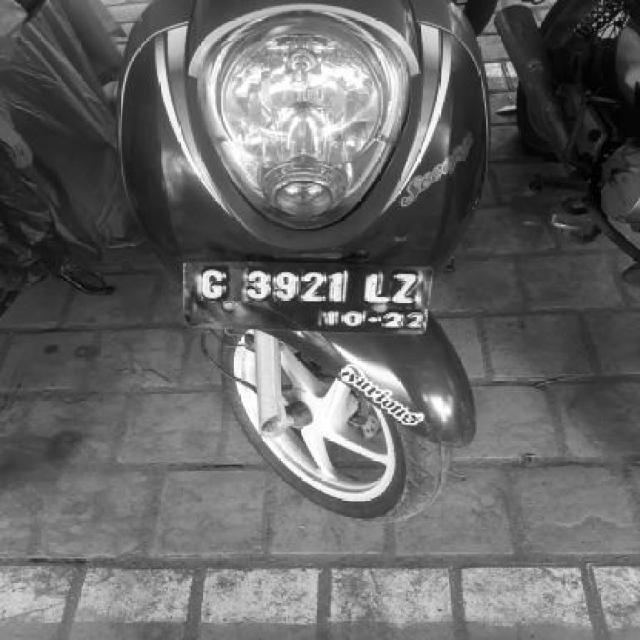1: (328, 274, 352, 310)
2: (301, 270, 325, 303)
3: (246, 268, 272, 304)
9: (275, 268, 299, 311)
G: (200, 263, 231, 303)
L: (364, 270, 390, 306)
Z: (390, 266, 422, 310)
